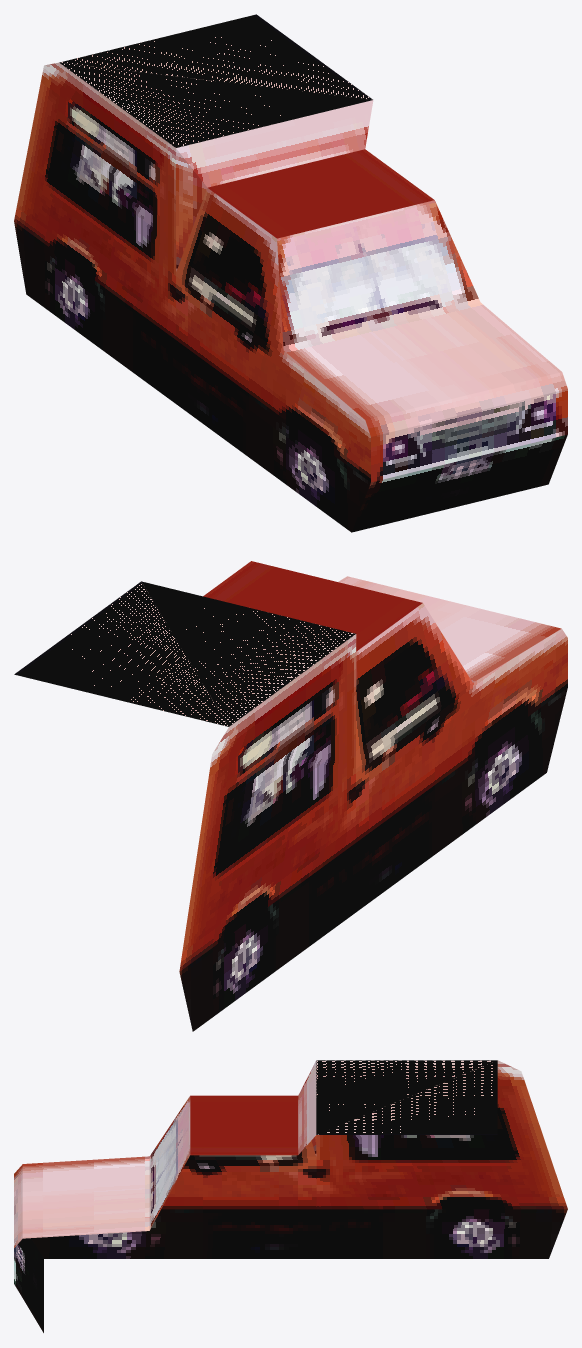
File: stage-palm-p6-685.glb
The picture shows the model from 3 angles, top to bottom: view 1: azimuth 30°, elevation 25°; view 2: azimuth 150°, elevation 25°; view 3: azimuth 270°, elevation 25°; orthographic projection. The views are drawn at different scales.
Bounding box in the file's own units: 2 × 2.48 × 6.28.
1 material, 1 textured.
